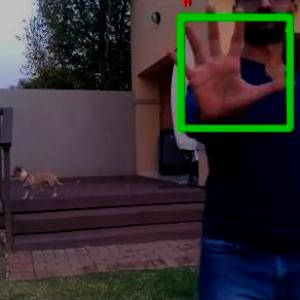follow_hand: (164, 0, 297, 119)
